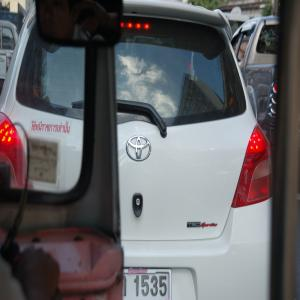Vehicle-registration-plate: (124, 267, 172, 300)
